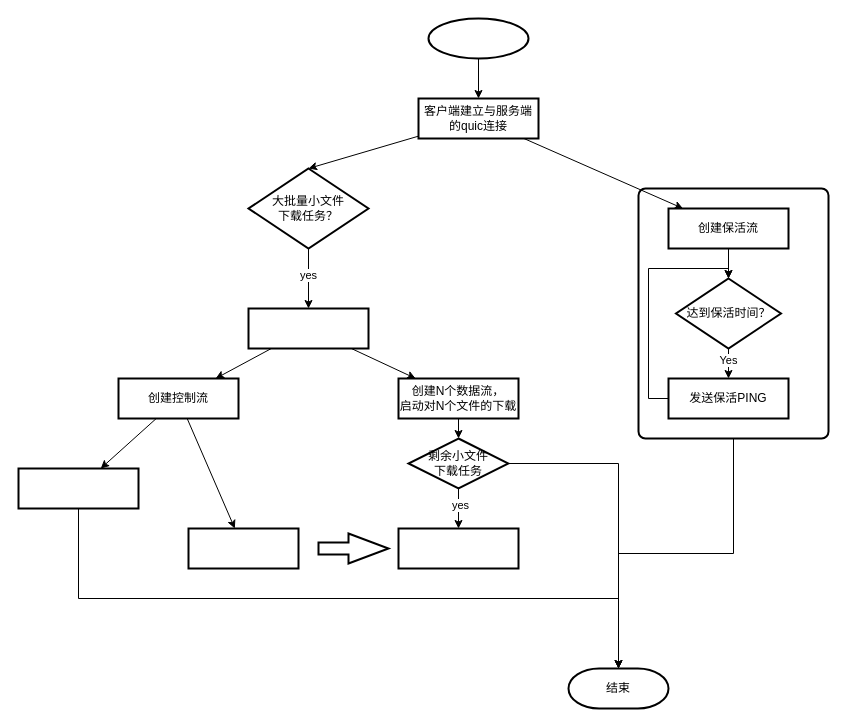
The diagram is 846 pixels wide and 726 high, and some of its shapes have lost their labels. Each missing label, with the centre of its shape:
"加载任务信息" goes at point 308,328.
"向服务端发送小文件预加载命令" goes at point 78,488.
"启动已预加载完成的文件下载任务" goes at point 458,548.
"开始" goes at point 478,38.
"收到小文件 预加载完成命令" goes at point 243,548.
